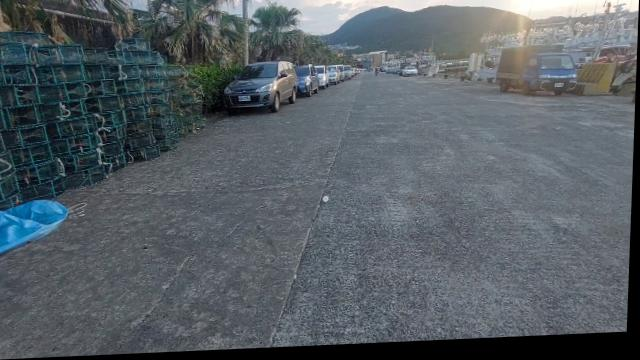pollute: (0, 198, 74, 259)
